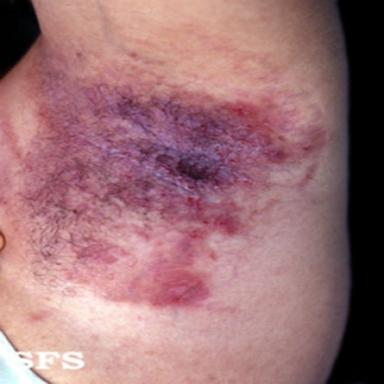Hailey-Hailey-Disease: (40, 70, 323, 239)
